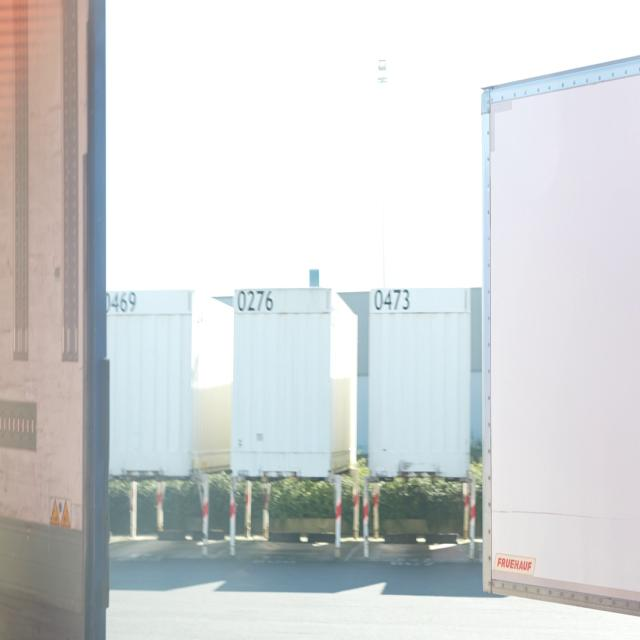Code: (372, 283, 416, 318), (233, 285, 274, 317), (99, 289, 138, 314)
